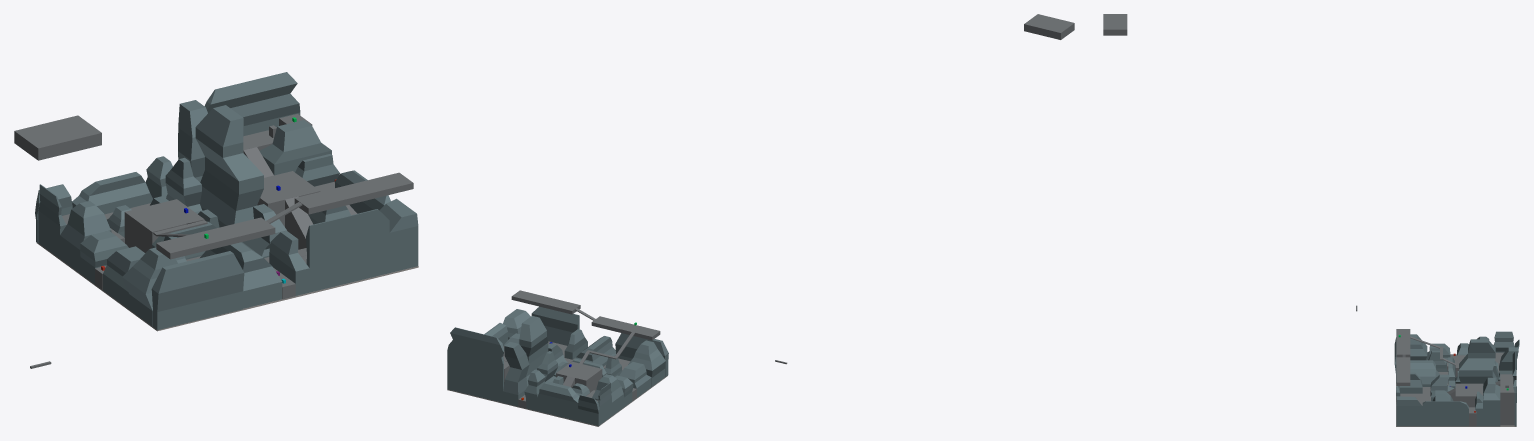
File: room5.fbx
The picture shows the model from 3 angles, left to right: view 1: azimuth 30°, elevation 25°; view 2: azimuth 150°, elevation 25°; view 3: azimuth 270°, elevation 25°; orthographic projection. The views are drawn at different scales.
Visible parts, largest first — view 1: walls.008, path.009, ground.009; view 2: walls.008, path.009; view 3: walls.008, path.009.
Part boxes in pixels (box(x1,y1,x2,y2)): walls.008: box(35, 72, 418, 330); path.009: box(14, 114, 413, 368); ground.009: box(37, 243, 418, 331); walls.008: box(447, 306, 668, 426); path.009: box(503, 14, 1074, 408); walls.008: box(1394, 331, 1519, 426); path.009: box(1103, 14, 1514, 426).
Bounding box in the file's own units: 102540 × 109727 × 72397.
